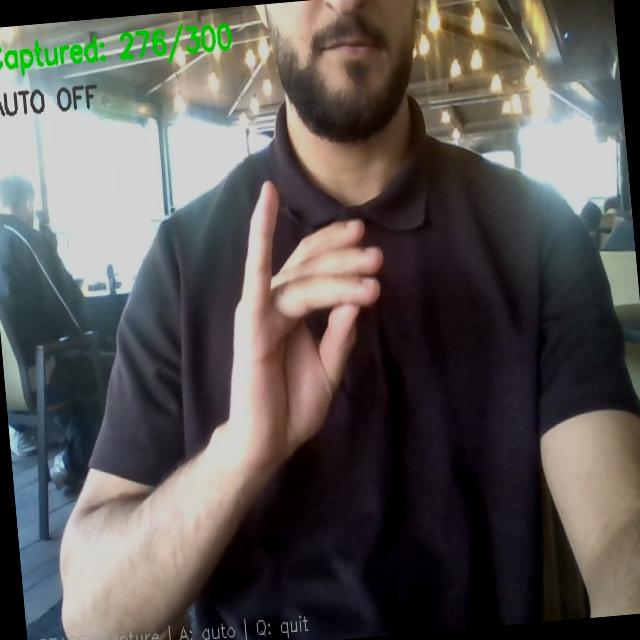Hand: (227, 182, 382, 469)
